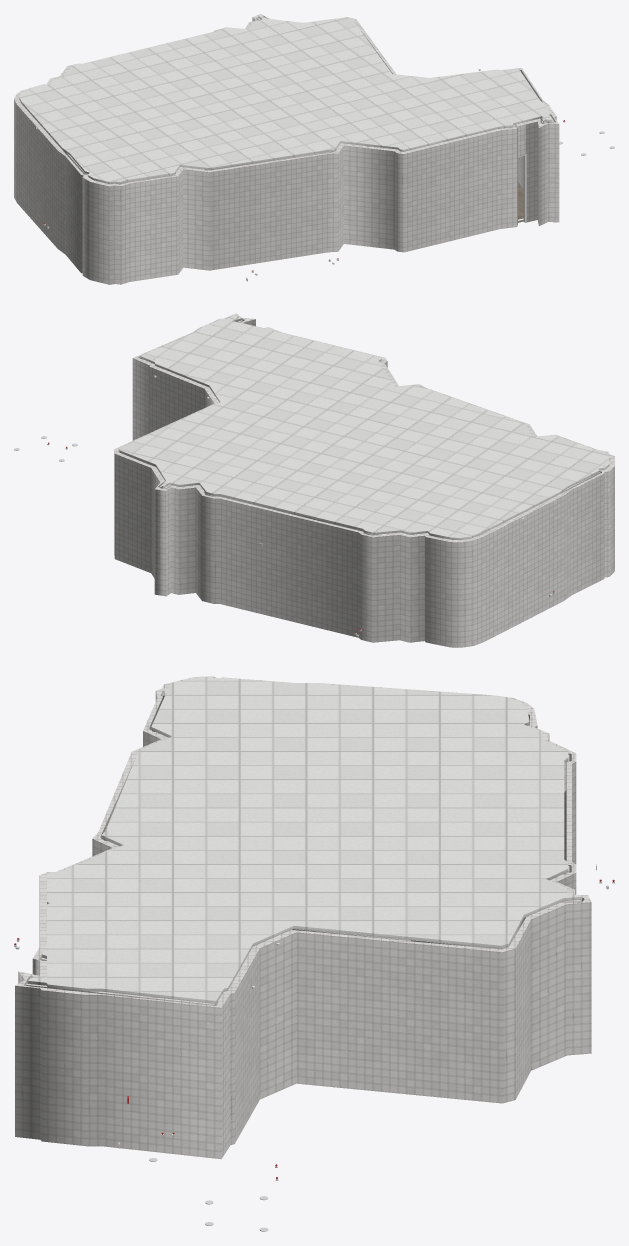
File: cocina_quest_34915ddb648e.glb
The picture shows the model from 3 angles, top to bottom: view 1: azimuth 30°, elevation 25°; view 2: azimuth 150°, elevation 25°; view 3: azimuth 270°, elevation 25°; orthographic projection. The views are drawn at different scales.
Visible parts, largest first — view 1: Z_cocina; view 2: Z_cocina; view 3: Z_cocina.
Part boxes in pixels (x1,y1,x2,y2): Z_cocina: (14, 14, 559, 284); Z_cocina: (114, 313, 614, 647); Z_cocina: (15, 676, 591, 1159).
Size of the model in its own units: 17.2 by 3.08 by 10.81.
29 materials, 4 textured.
